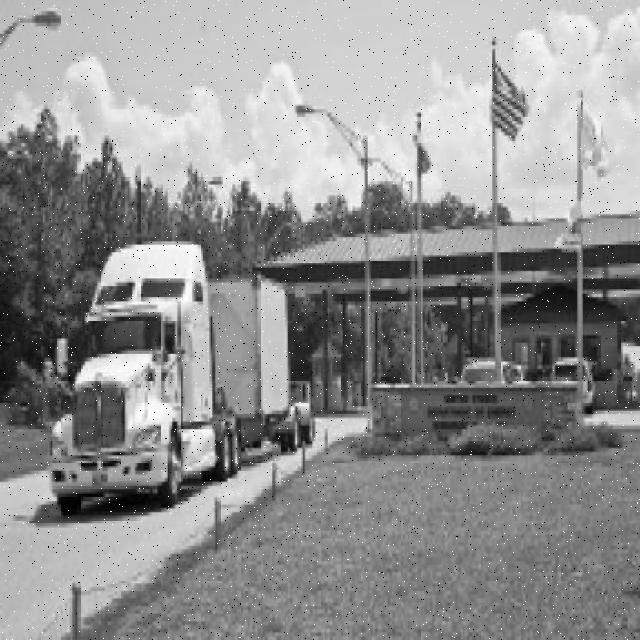Tractor Trailer: (50, 243, 313, 516)
